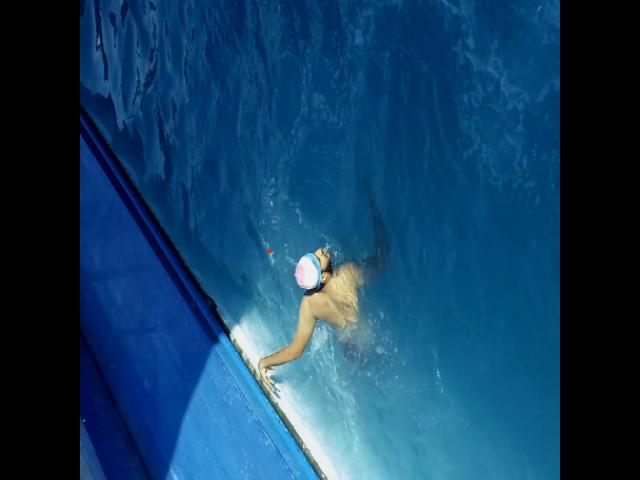swimming: (257, 179, 393, 390)
